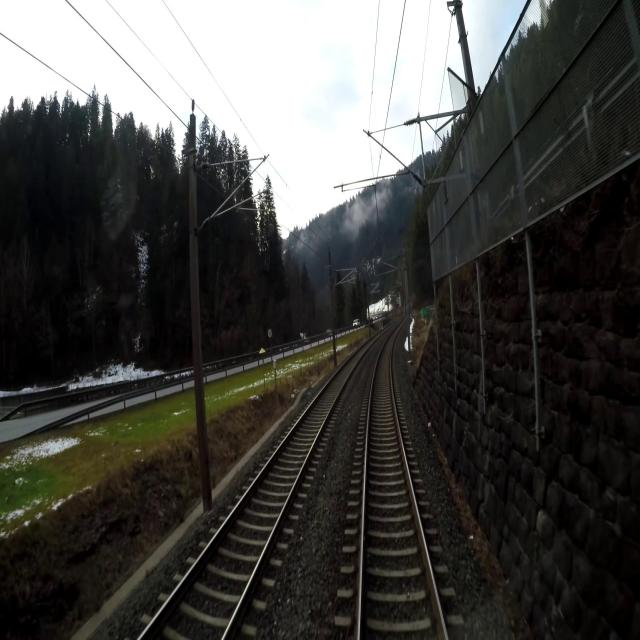rail-track: (143, 344, 368, 639), (361, 329, 444, 639)
